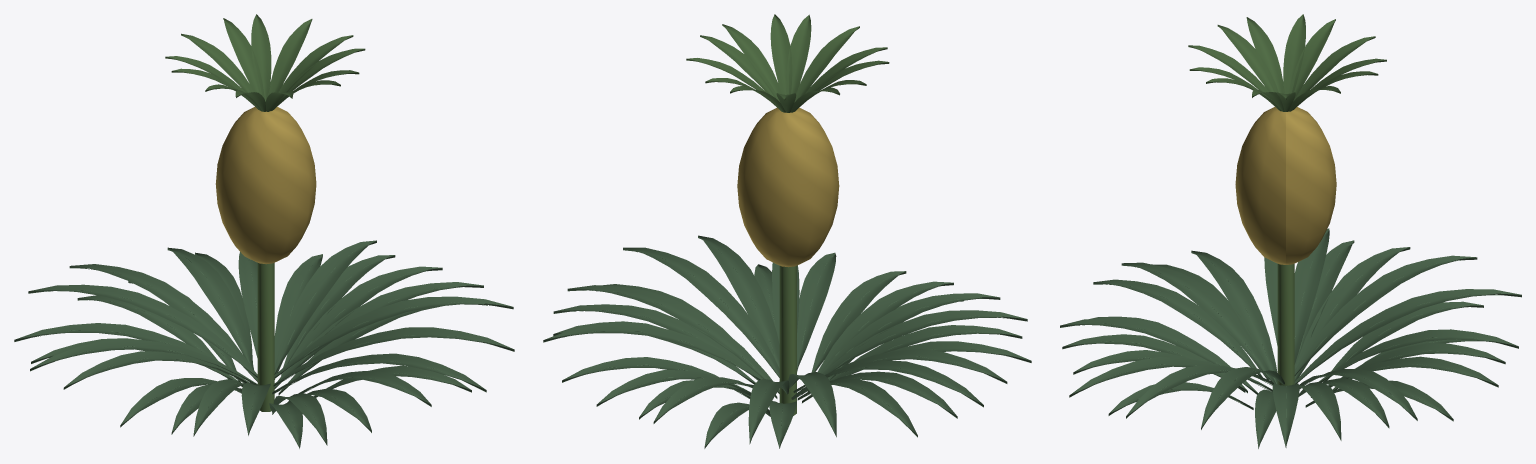
The model's file is pina.glb.
3 renders of one model, left to right at view 1: azimuth 30°, elevation 25°; view 2: azimuth 150°, elevation 25°; view 3: azimuth 270°, elevation 25°, orthographic.
Visible parts, largest first — view 1: pina; view 2: pina; view 3: pina.
Boxes of the visible parts, x1,y1,x2,y2 form: pina: [14, 14, 514, 448]; pina: [543, 14, 1031, 448]; pina: [1060, 14, 1521, 448].
Bounding box in the file's own units: 1.29 × 1 × 1.19.
